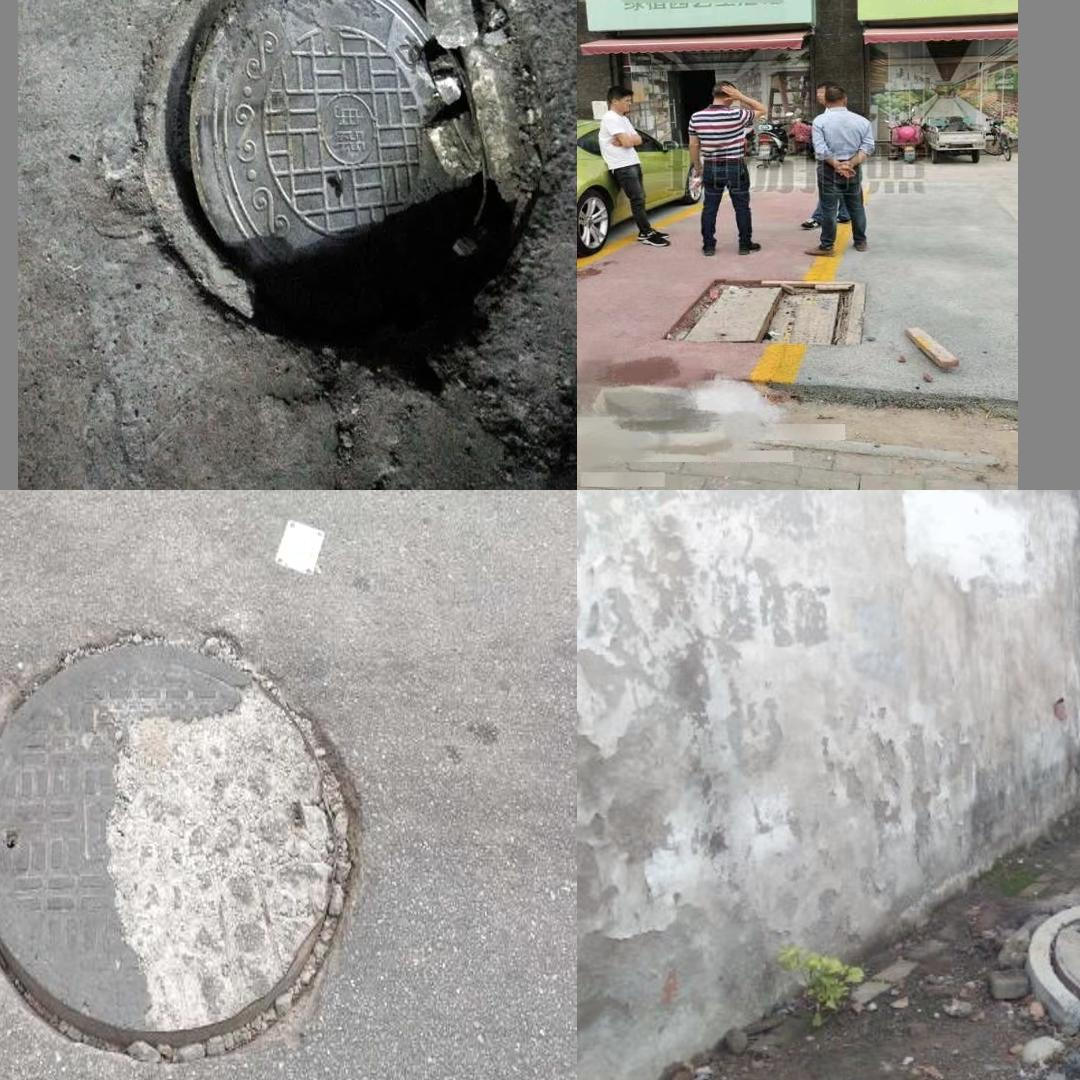circle: (0, 603, 381, 1073), (120, 0, 560, 363), (671, 280, 865, 348), (1022, 897, 1080, 1076)
